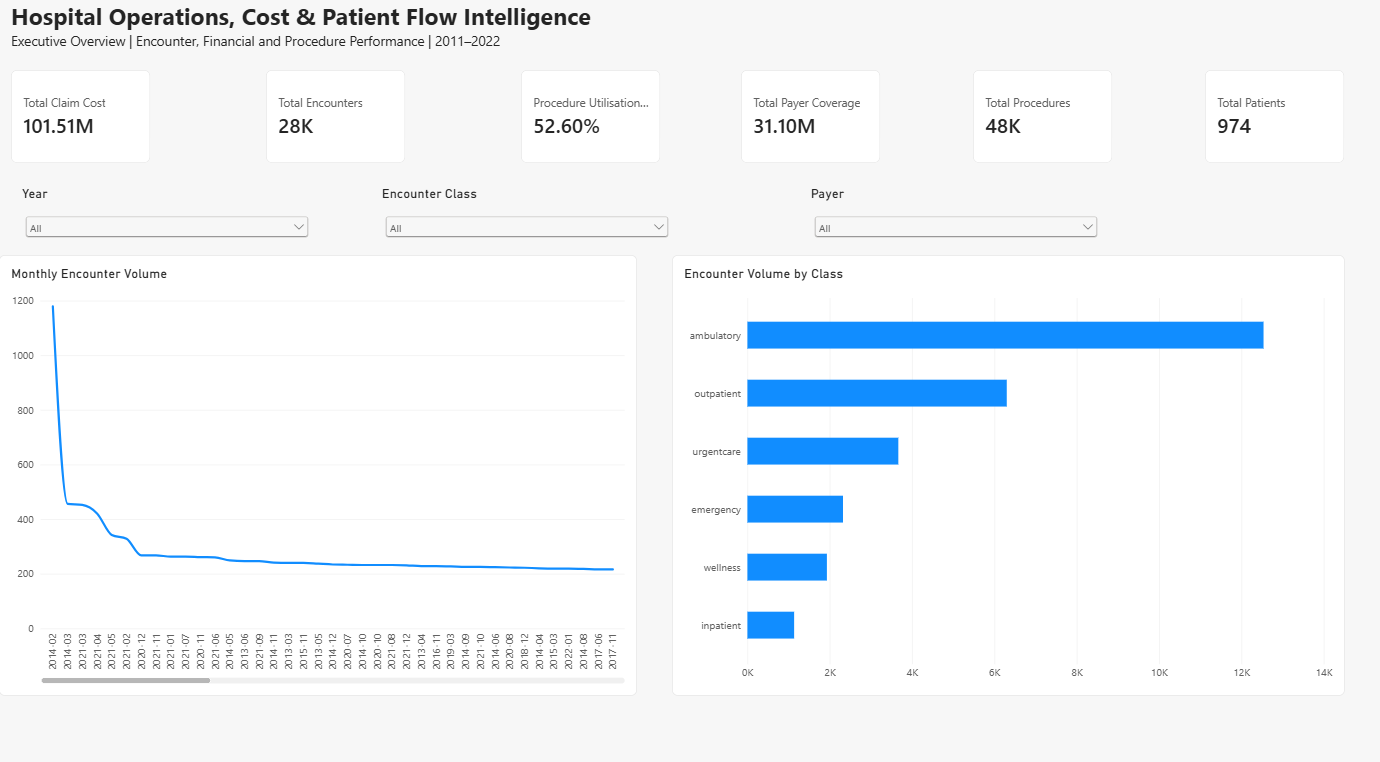

What the dashboard file says about the page in this screenshot:
{"tool":"powerbi","page":{"name":"Executive Overview","canvas":[1920,1080],"ordinal":0},"visuals":[{"type":"textbox","box":[16,0,1200,96],"z":1000},{"type":"cardVisual","fields":{"Data":["fact_encounters.Total Encounters"]},"box":[368,96,192,128],"z":1001},{"type":"cardVisual","fields":{"Data":["fact_encounters.Total Patients"]},"box":[1664,96,192,128],"z":1002},{"type":"cardVisual","fields":{"Data":["fact_procedures.Total Procedures"]},"box":[1344,96,192,128],"z":1003},{"type":"cardVisual","fields":{"Data":["fact_encounters.Total Claim Cost"]},"box":[16,96,192,128],"z":1004},{"type":"cardVisual","fields":{"Data":["fact_encounters.Total Payer Coverage"]},"box":[1024,96,192,128],"z":1005},{"type":"cardVisual","fields":{"Data":["fact_encounters.Procedure Utilisation (%)"]},"box":[720,96,192,128],"z":1006},{"type":"lineChart","title":"Monthly Encounter Volume","fields":{"Category":["dim_date.YEAR_MONTH"],"Y":["fact_encounters.Total Encounters"]},"box":[0,352,880,608],"z":1007},{"type":"clusteredBarChart","title":"Encounter Volume by Class","fields":{"Category":["dim_encounter_class.Column1"],"Y":["fact_encounters.Total Encounters"]},"box":[928,352,928,608],"z":1008},{"type":"slicer","title":"Year","fields":{"Values":["dim_date.YEAR"]},"box":[32,256,400,96],"z":1009},{"type":"slicer","title":"Encounter Class","fields":{"Values":["dim_encounter_class.Column1"]},"box":[528,256,400,96],"z":1010},{"type":"slicer","title":"Payer","fields":{"Values":["dim_payers.Column2"]},"box":[1120,256,400,96],"z":1011}]}

Visuals, with their boxes in screenshot pixels (x1, y1, x2, y2), scaled from the page's 1920x1080 canvas onto the 1380x762 screenshot:
textbox: bbox=(12, 0, 874, 68)
cardVisual - fact_encounters.Total Encounters: bbox=(264, 68, 402, 158)
cardVisual - fact_encounters.Total Patients: bbox=(1196, 68, 1334, 158)
cardVisual - fact_procedures.Total Procedures: bbox=(966, 68, 1104, 158)
cardVisual - fact_encounters.Total Claim Cost: bbox=(12, 68, 150, 158)
cardVisual - fact_encounters.Total Payer Coverage: bbox=(736, 68, 874, 158)
cardVisual - fact_encounters.Procedure Utilisation (%): bbox=(518, 68, 656, 158)
"Monthly Encounter Volume" lineChart: bbox=(0, 248, 632, 677)
"Encounter Volume by Class" clusteredBarChart: bbox=(667, 248, 1334, 677)
"Year" slicer: bbox=(23, 181, 310, 248)
"Encounter Class" slicer: bbox=(380, 181, 667, 248)
"Payer" slicer: bbox=(805, 181, 1092, 248)
